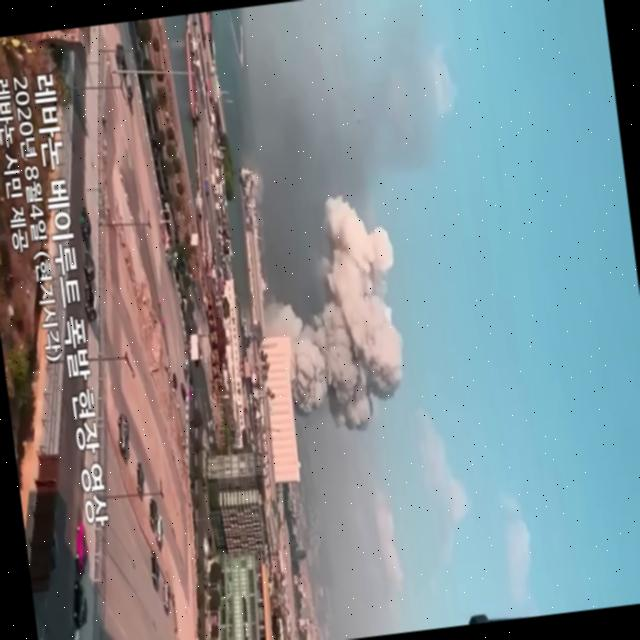explosion: (230, 163, 426, 519)
